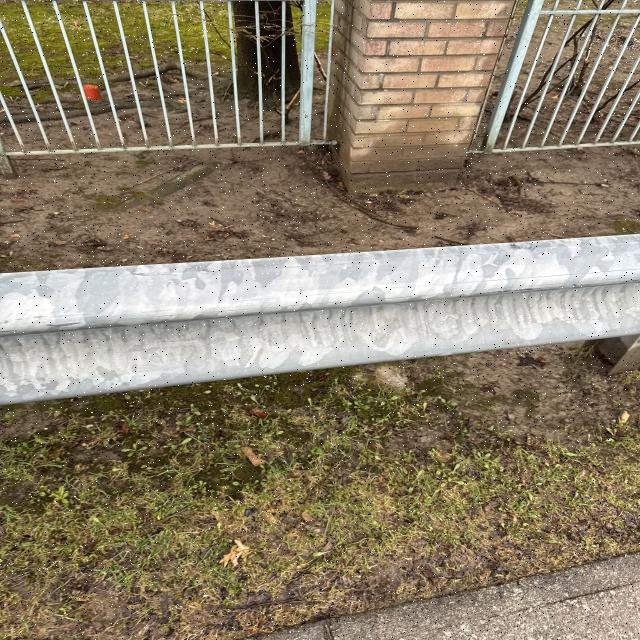Guard rail: (22, 244, 638, 390)
